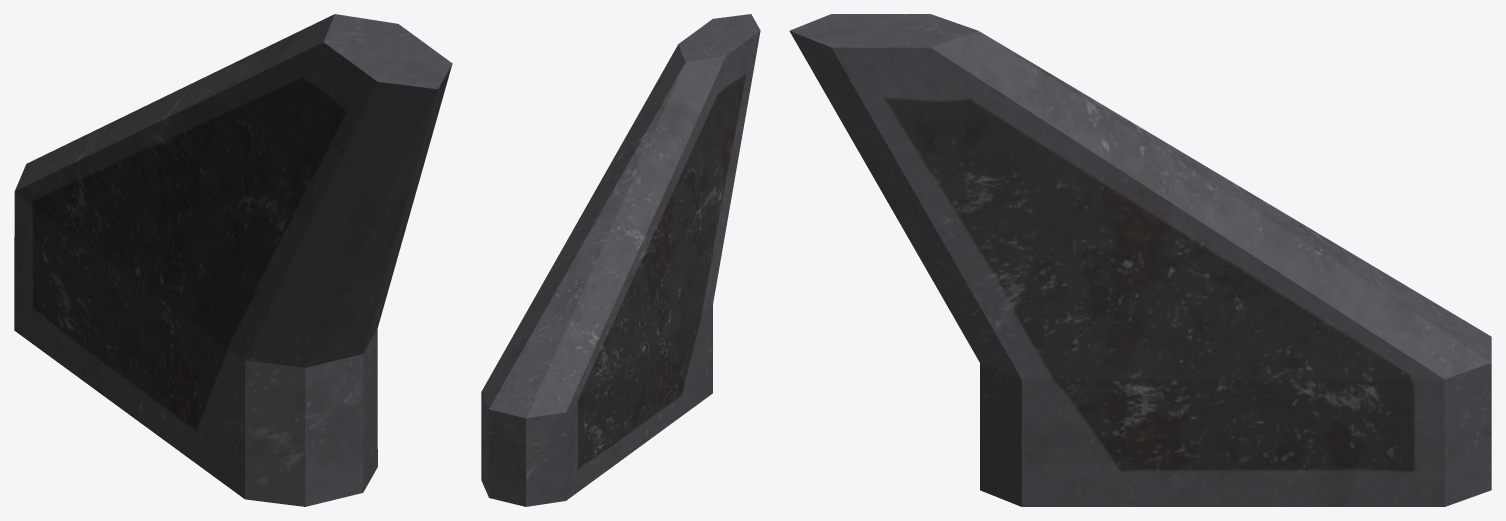
File: conn_s_2.fbx
3 renders of one model, left to right at view 1: azimuth 30°, elevation 25°; view 2: azimuth 150°, elevation 25°; view 3: azimuth 270°, elevation 25°, orthographic. The views are drawn at different scales.
Parts seen in each view (by area): view 1: conn_s_2; view 2: conn_s_2; view 3: conn_s_2.
Part boxes in pixels (x1,y1,x2,y2): conn_s_2: (14, 14, 452, 506); conn_s_2: (481, 14, 760, 506); conn_s_2: (789, 14, 1491, 506).
Bounding box in the file's own units: 2 × 7 × 9.98.
